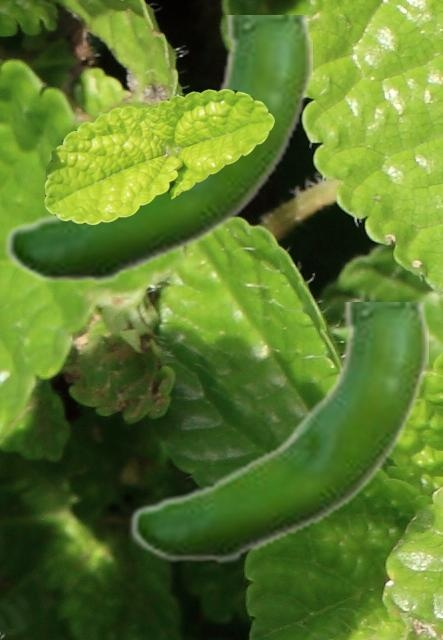green_chili: (3, 15, 311, 285), (128, 302, 427, 564)
